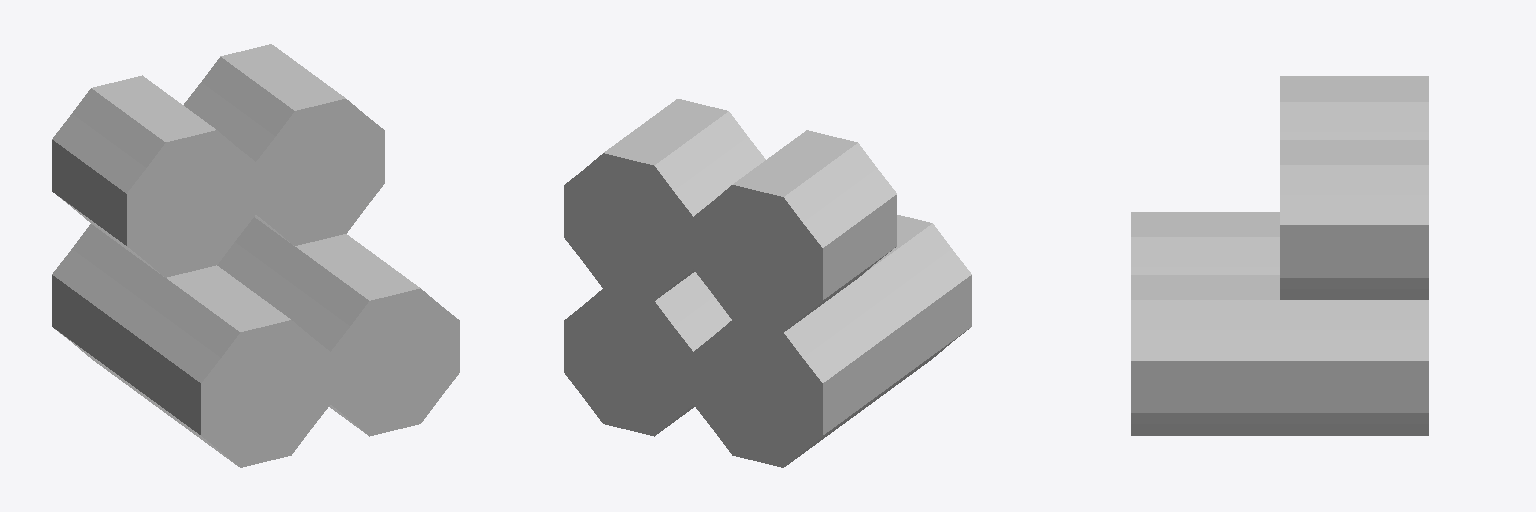
Rendered from log_pile_6.obj.
3 views of the same model, side by side, from view 1: azimuth 30°, elevation 25°; view 2: azimuth 150°, elevation 25°; view 3: azimuth 270°, elevation 25° (orthographic).
Visible parts, largest first — view 1: log.003, log.005, log.001, log.002, log.004, log; view 2: log.005, log.004, log.002, log, log.003; view 3: log.001, log.002, log, log.005, log.003.
Part boxes in pixels (x1,y1,x2,y2): log.003: (127,265,330,467); log.005: (52,75,255,277); log.001: (258,234,459,436); log.002: (184,44,384,245); log.004: (52,224,164,412); log: (217,217,294,294); log.005: (693,130,896,331); log.004: (693,278,896,467); log.002: (564,99,765,300); log: (564,272,731,436); log.003: (859,215,971,412); log.001: (1131,275,1279,435); log.002: (1280,140,1428,299); log: (1280,300,1428,435); log.005: (1280,76,1428,139); log.003: (1131,212,1279,274).
Size of the model in its own units: 1 by 1 by 1.